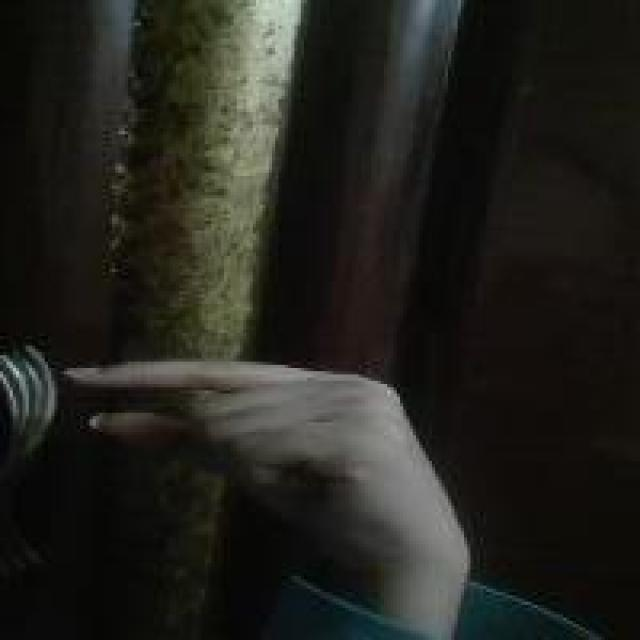G: (62, 355, 476, 576)
